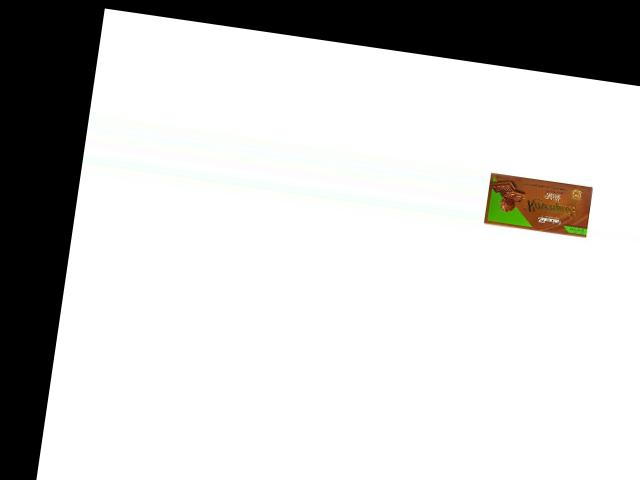chocolate: (482, 170, 597, 242)
